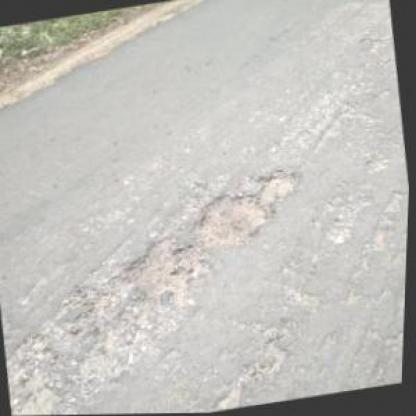pothole: (112, 227, 216, 312), (187, 187, 280, 254), (255, 166, 305, 206)
